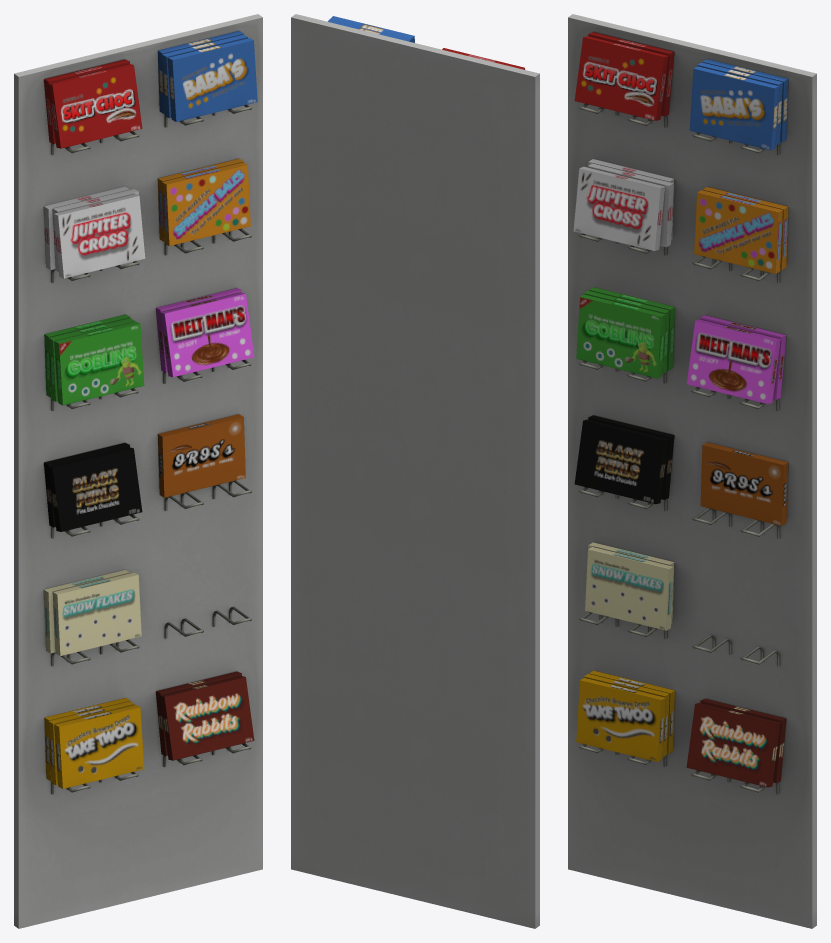
Rendered from video_store_sweets.obj.
The picture shows the model from 3 angles, left to right: view 1: azimuth 30°, elevation 25°; view 2: azimuth 150°, elevation 25°; view 3: azimuth 330°, elevation 25°; orthographic projection.
Visible parts, largest first — view 1: Mesh1_Group2_Group1_Model; view 2: Mesh1_Group2_Group1_Model; view 3: Mesh1_Group2_Group1_Model.
Boxes of the visible parts, x1,y1,x2,y2 form: Mesh1_Group2_Group1_Model: (14, 14, 262, 928); Mesh1_Group2_Group1_Model: (291, 14, 539, 928); Mesh1_Group2_Group1_Model: (568, 14, 816, 928).
Bounding box in the file's own units: 0.3 × 1 × 0.0629.
Materials: 1 (1 with a texture image).
